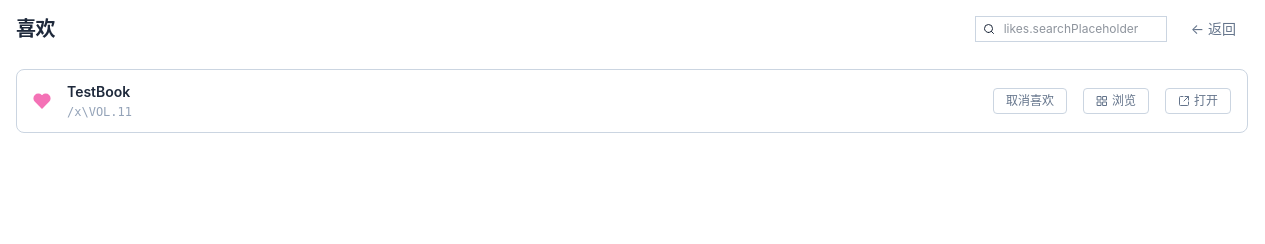
Test case: Likes.vue › 行内 btn-unlike 点击调 setFavorite(7, false)，book.isFavorite=false 后行消失
Expected: the list item with test id "row" is shown, left=16, top=69, right=1248, bottom=133
What coordinates should you click on to do the following:
click the button with test id "btn-unlike"
I would click on:
 (1030, 101)
Its box is left=993, top=88, right=1067, bottom=114.
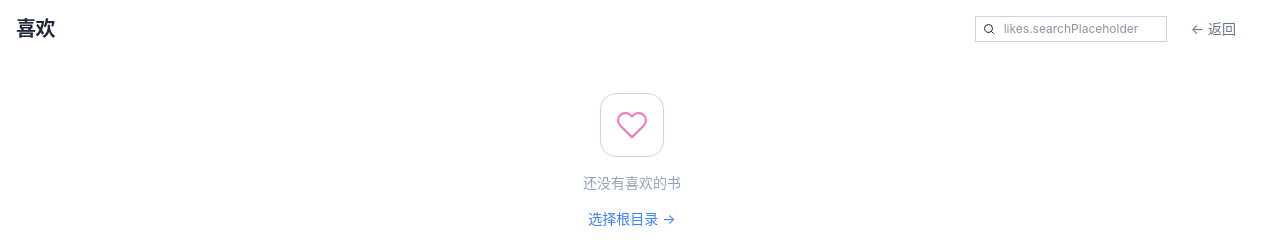
Expected: the element with test id "empty-state" is shown, left=583, top=93, right=681, bottom=227
